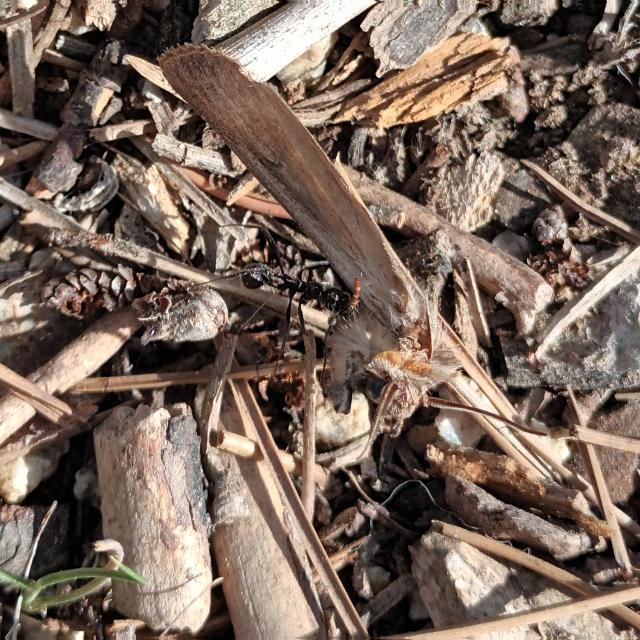Apheanogaster: (226, 243, 362, 334)
